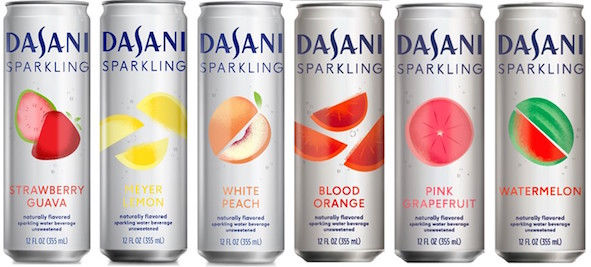lemon: (99, 83, 189, 212)
orange: (293, 87, 386, 213)
